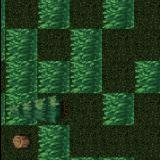Obstacle: (36, 93, 68, 125), (4, 126, 36, 157)
Slow: (5, 30, 36, 126), (68, 29, 100, 93), (36, 125, 68, 160), (36, 61, 69, 94), (102, 92, 134, 126), (100, 0, 134, 29), (36, 0, 68, 29), (134, 61, 160, 92)
